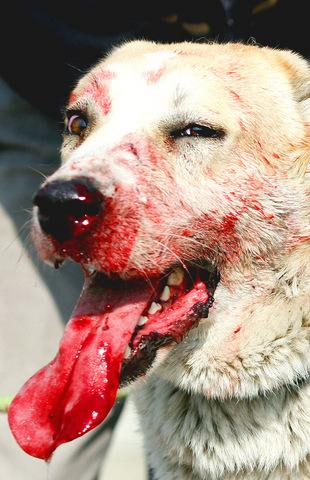bleeding: (6, 147, 205, 448)
